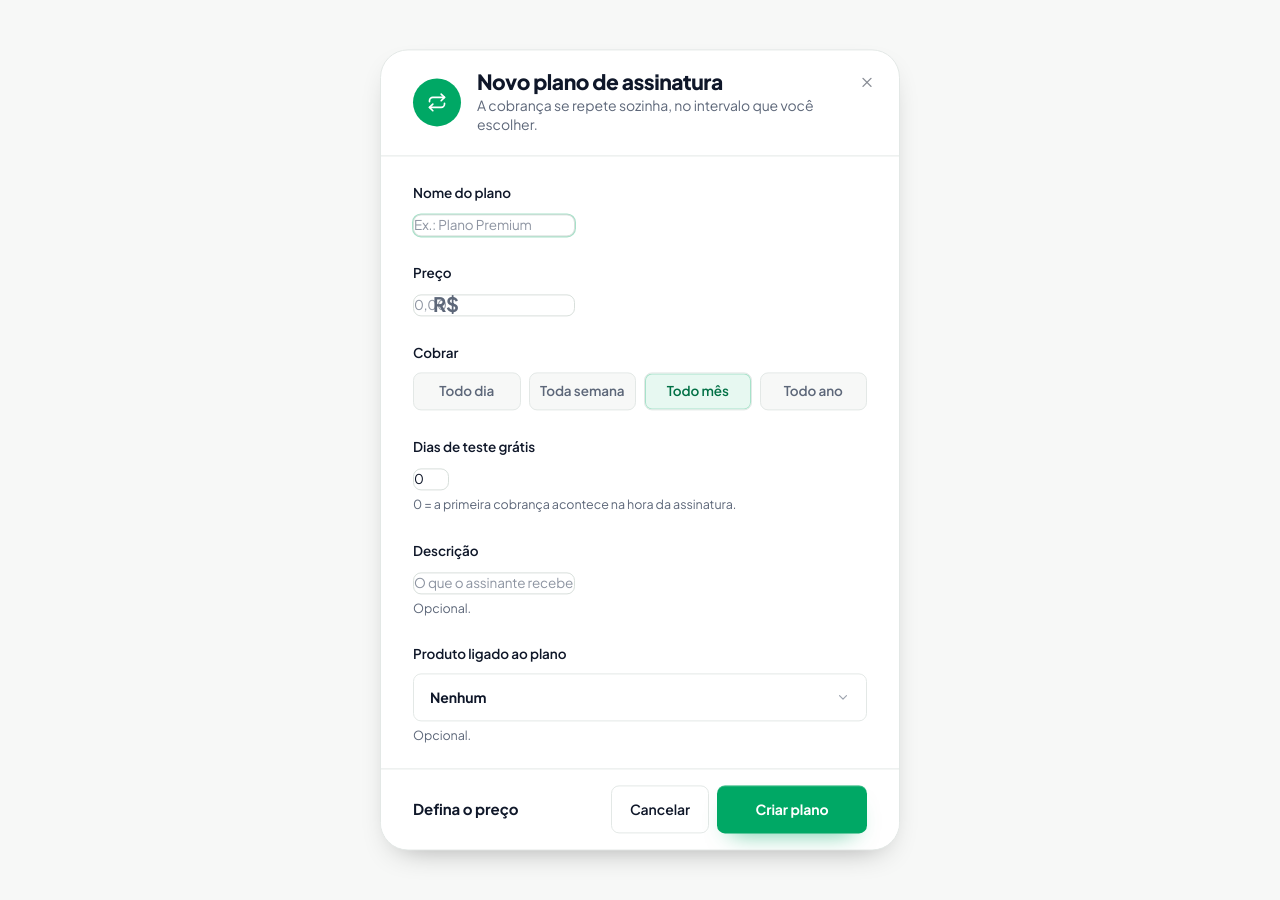
Test: NewPlanDialog › preço mascarado e intervalo escolhido vão para onCreate
The width and height of the screenshot is (1280, 900).
Later steps or results of the test are not shown.
Type "Plano Premium" into the field labelled "Nome do plano" at (494, 225), box [413,214,575,236]
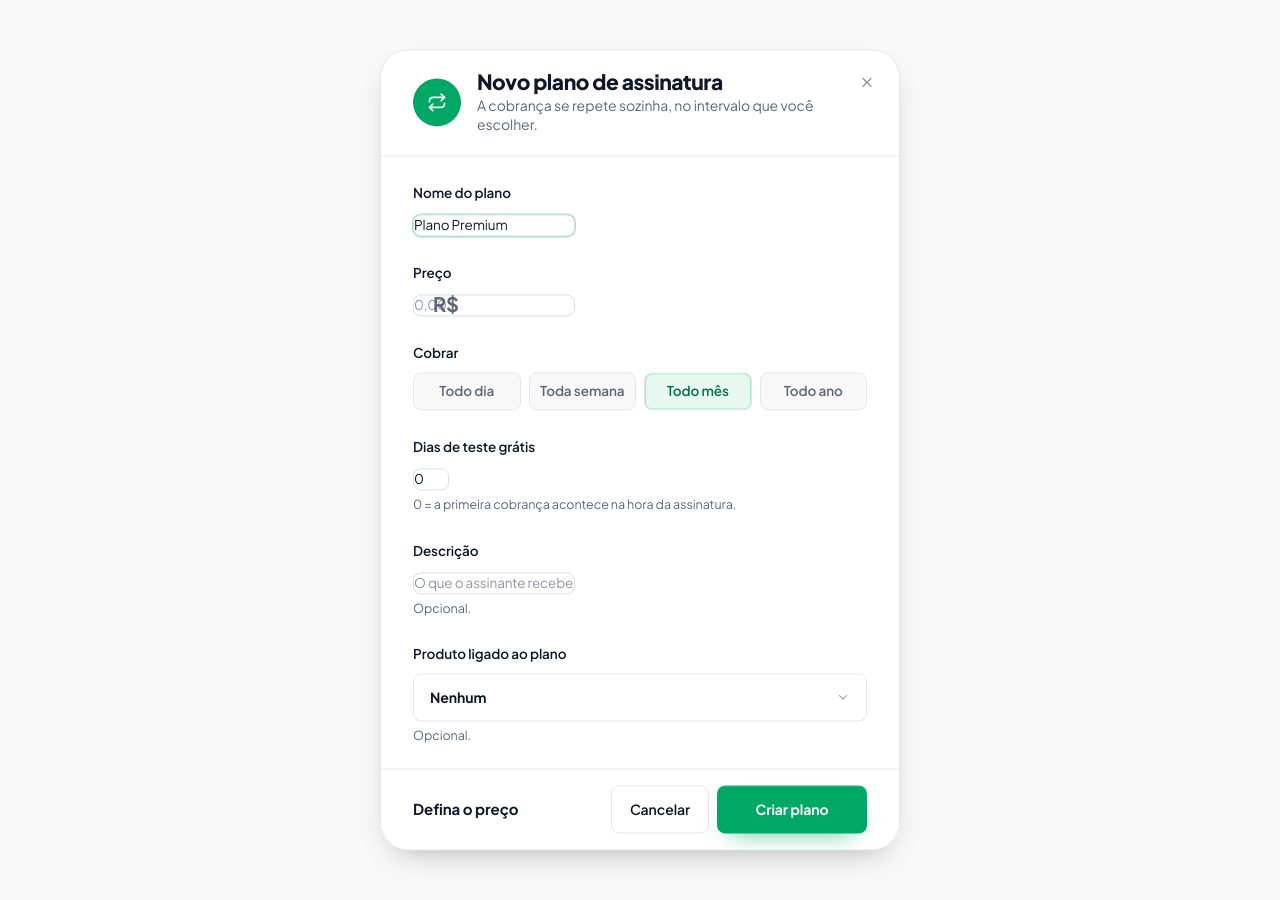
Type "199000" into the field labelled "Preço" at (494, 305), box [413,294,575,317]
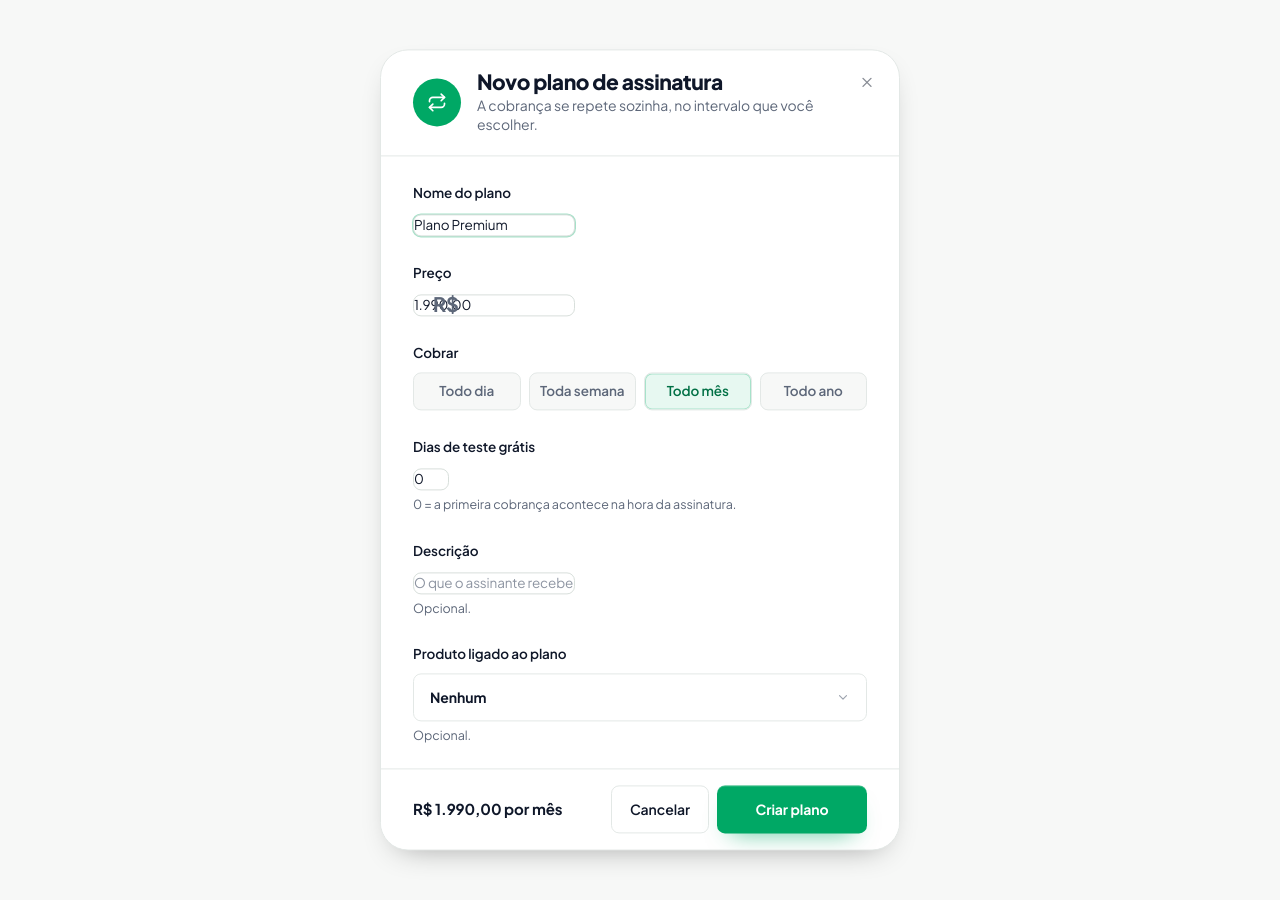
Check: the field labelled "Preço" holds "1.990,00", box [413,294,575,317]
Click the button "Todo ano" at (813, 392), box [760,372,867,410]
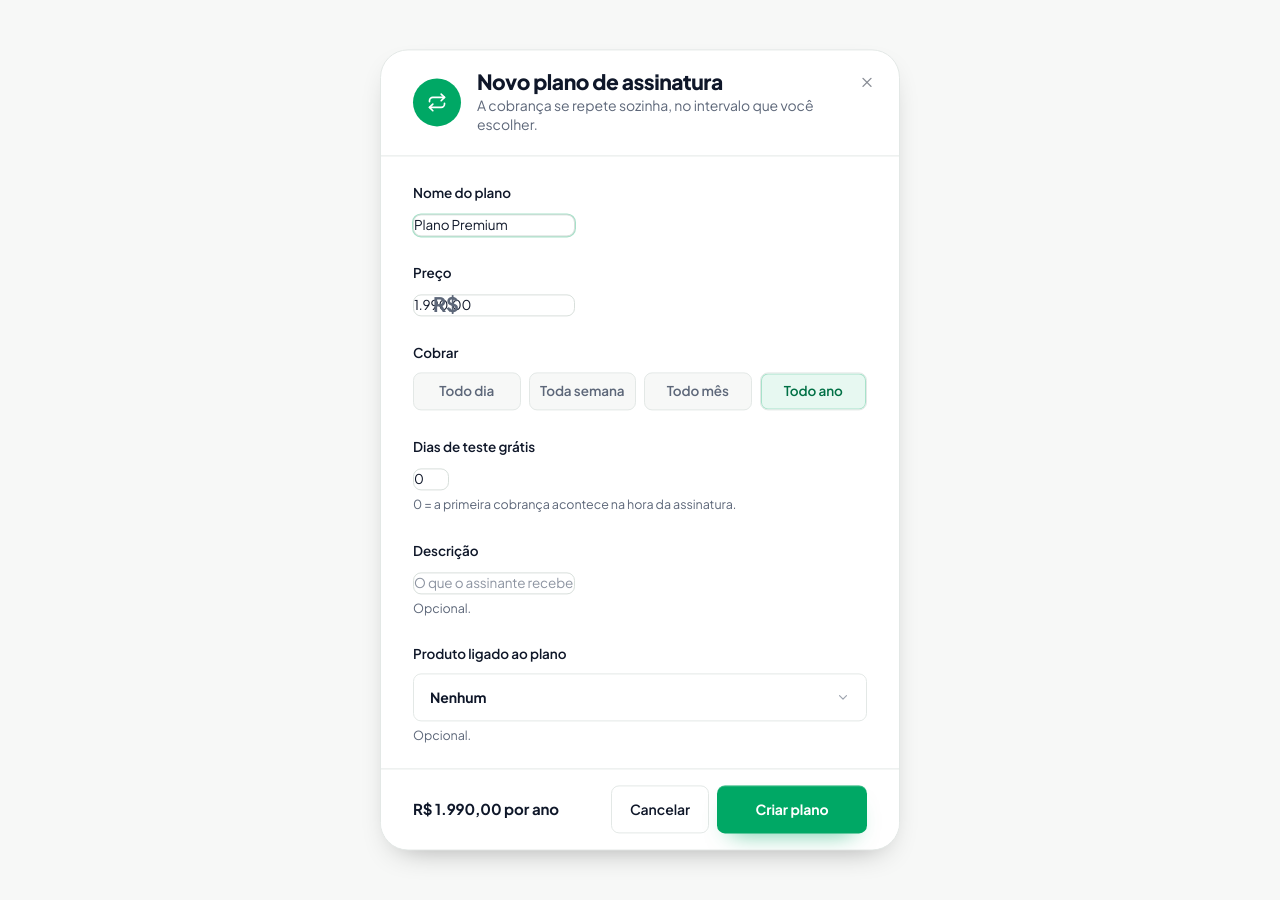
Check: the text "R$ 1.990,00 por ano" is shown, box [413,799,559,818]
